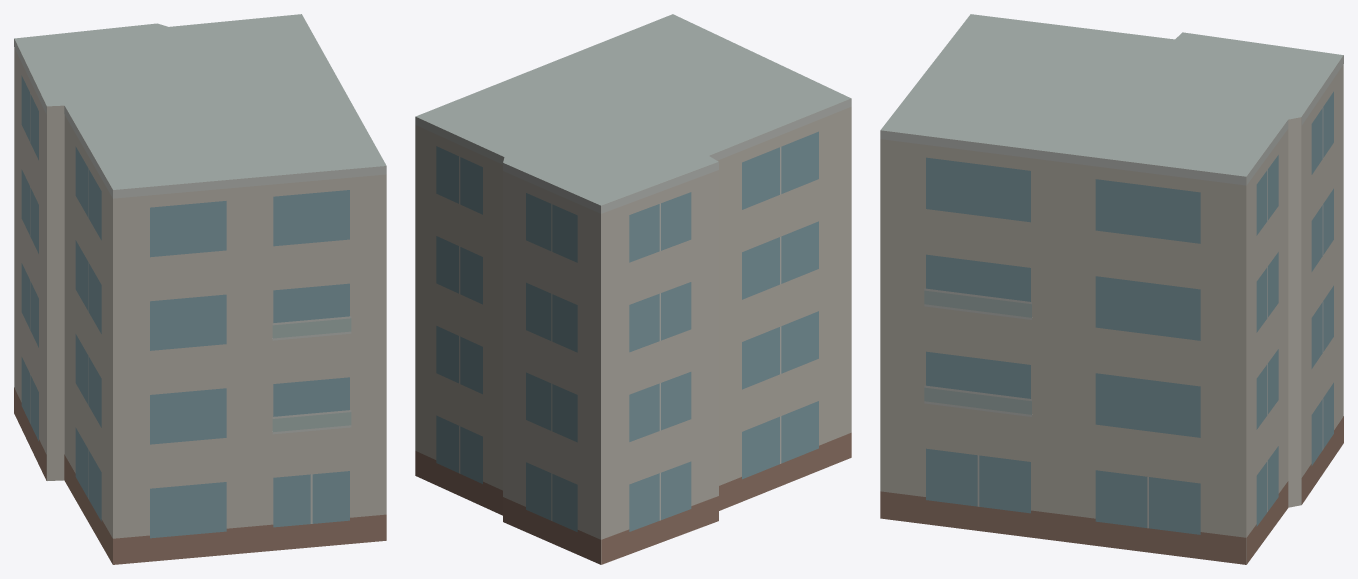
Rendered from survey-upis-32457020.glb.
3 views of the same model, side by side, from view 1: azimuth 30°, elevation 25°; view 2: azimuth 150°, elevation 25°; view 3: azimuth 270°, elevation 25° (orthographic). The views are drawn at different scales.
Visible parts, largest first — view 1: survey-upis-32457020.tmp; view 2: survey-upis-32457020.tmp; view 3: survey-upis-32457020.tmp.
Part boxes in pixels (x1,y1,x2,y2): survey-upis-32457020.tmp: (14,14,386,564); survey-upis-32457020.tmp: (415,14,851,564); survey-upis-32457020.tmp: (880,14,1343,564).
Size of the model in its own units: 9.63 by 10.7 by 11.59.
